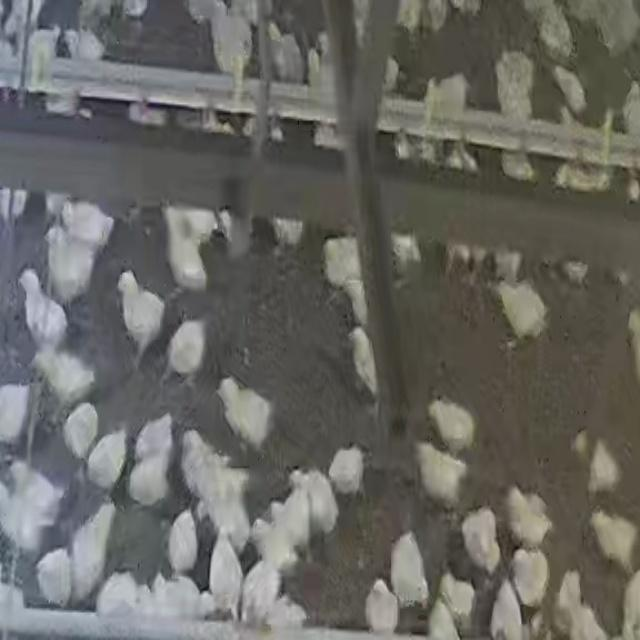chicken: (2, 466, 62, 549), (70, 502, 117, 599), (114, 265, 160, 364), (17, 270, 70, 351), (168, 211, 212, 298), (203, 471, 251, 550), (180, 431, 226, 508), (219, 377, 269, 447), (414, 440, 466, 506), (44, 225, 90, 299), (209, 8, 253, 82), (495, 280, 549, 340), (239, 556, 285, 626), (388, 529, 430, 605), (502, 486, 552, 548), (31, 354, 98, 400), (207, 532, 245, 609), (427, 398, 478, 454), (84, 429, 129, 491), (165, 320, 206, 388), (589, 509, 637, 567), (458, 506, 501, 570), (300, 466, 341, 533), (258, 509, 301, 572), (277, 478, 315, 549), (61, 197, 106, 254), (319, 234, 364, 290), (508, 545, 549, 606), (550, 570, 589, 634), (496, 51, 531, 121), (127, 451, 173, 504), (134, 410, 178, 464), (488, 577, 525, 640), (35, 547, 75, 605), (582, 437, 622, 494), (436, 571, 478, 625), (535, 4, 576, 59), (157, 573, 206, 619), (166, 508, 200, 573), (94, 570, 140, 618), (349, 328, 380, 398), (0, 382, 34, 444), (602, 0, 640, 55), (550, 64, 590, 116), (363, 578, 401, 632), (326, 444, 366, 495), (552, 164, 613, 195), (426, 73, 473, 113), (63, 405, 96, 460), (270, 32, 304, 82), (425, 593, 461, 639), (340, 277, 369, 330), (390, 232, 424, 277), (500, 145, 536, 184), (25, 24, 59, 63), (490, 248, 524, 283), (74, 25, 107, 61), (272, 216, 306, 248), (622, 81, 640, 139), (186, 0, 222, 27), (2, 188, 29, 222), (394, 0, 420, 34), (560, 258, 590, 287), (424, 0, 451, 28), (455, 0, 482, 18)
